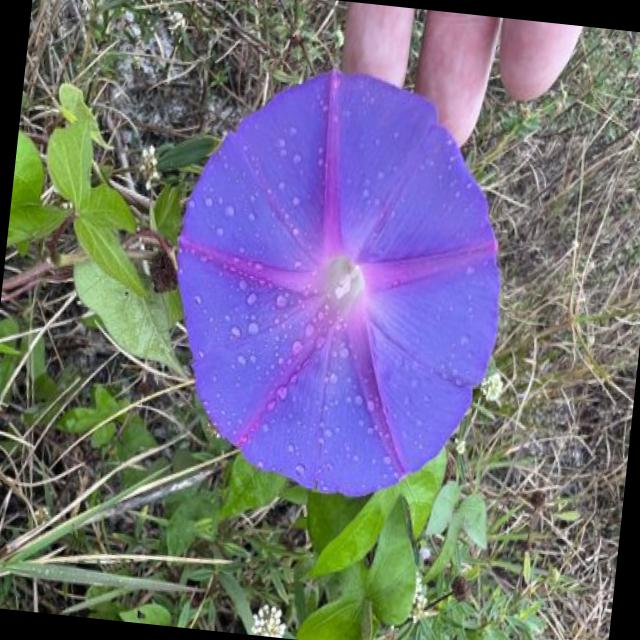ipomoea: (148, 49, 526, 514), (244, 596, 292, 636)
